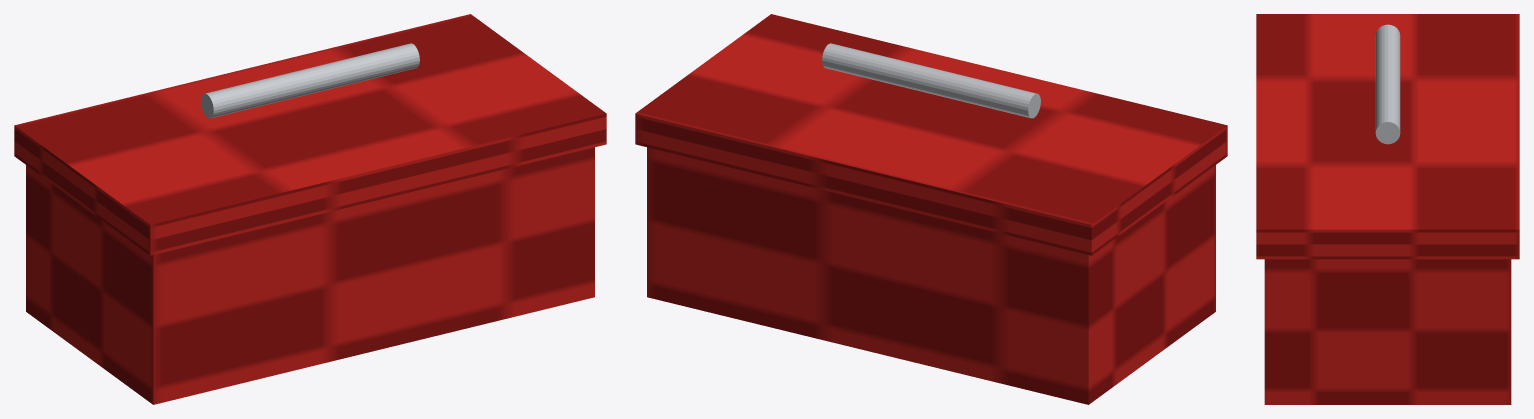
Rendered from toolbox.glb.
The picture shows the model from 3 angles, left to right: view 1: azimuth 30°, elevation 25°; view 2: azimuth 150°, elevation 25°; view 3: azimuth 270°, elevation 25°; orthographic projection. The views are drawn at different scales.
Visible parts, largest first — view 1: body, lid, handle; view 2: body, lid, handle; view 3: lid, body, handle.
Part boxes in pixels (left/top/right/bottom): body: left=26, top=147, right=594, bottom=404; lid: left=14, top=14, right=606, bottom=255; handle: left=201, top=43, right=419, bottom=118; body: left=647, top=147, right=1215, bottom=404; lid: left=635, top=14, right=1227, bottom=255; handle: left=822, top=43, right=1040, bottom=118; lid: left=1256, top=14, right=1519, bottom=259; body: left=1264, top=259, right=1511, bottom=404; handle: left=1375, top=24, right=1400, bottom=144.
Bounding box in the file's own units: 0.62 × 0.305 × 0.32.
Materials: 2 (1 with a texture image).
